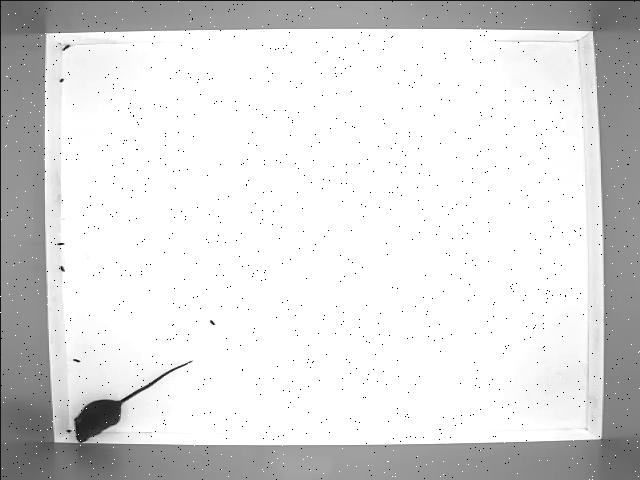Tikus: (63, 355, 195, 443)
